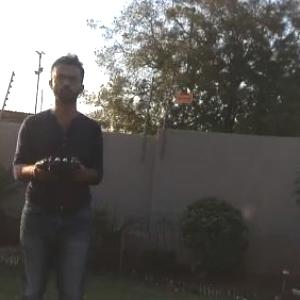follow: (9, 50, 109, 299)
